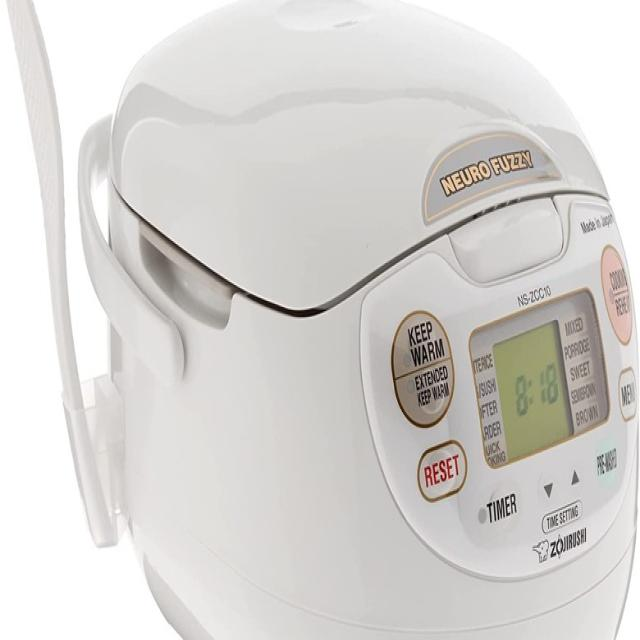appliances: (7, 0, 636, 639)
